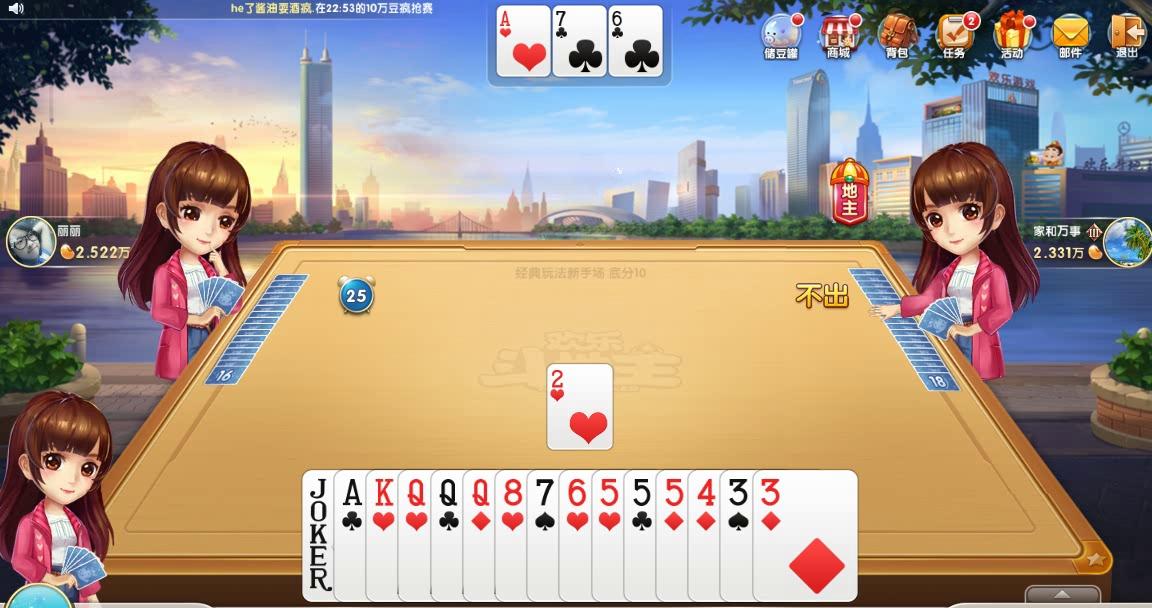12~1: (468, 468, 574, 602)
12~2: (431, 468, 537, 602)
12~3: (398, 468, 504, 602)
13~3: (364, 468, 470, 602)
14~2: (333, 469, 439, 603)
14~3: (495, 1, 550, 78)
15~3: (546, 362, 612, 450)
17~3: (303, 469, 409, 603)
3~1: (752, 470, 858, 604)
3~4: (719, 469, 825, 603)
4~1: (687, 469, 793, 603)
5~1: (656, 469, 762, 603)
5~2: (623, 468, 729, 602)
5~3: (592, 468, 698, 602)
6~2: (607, 2, 662, 79)
6~3: (559, 468, 665, 602)
7~2: (551, 2, 606, 79)
7~4: (526, 468, 632, 602)
8~3: (495, 468, 601, 602)
